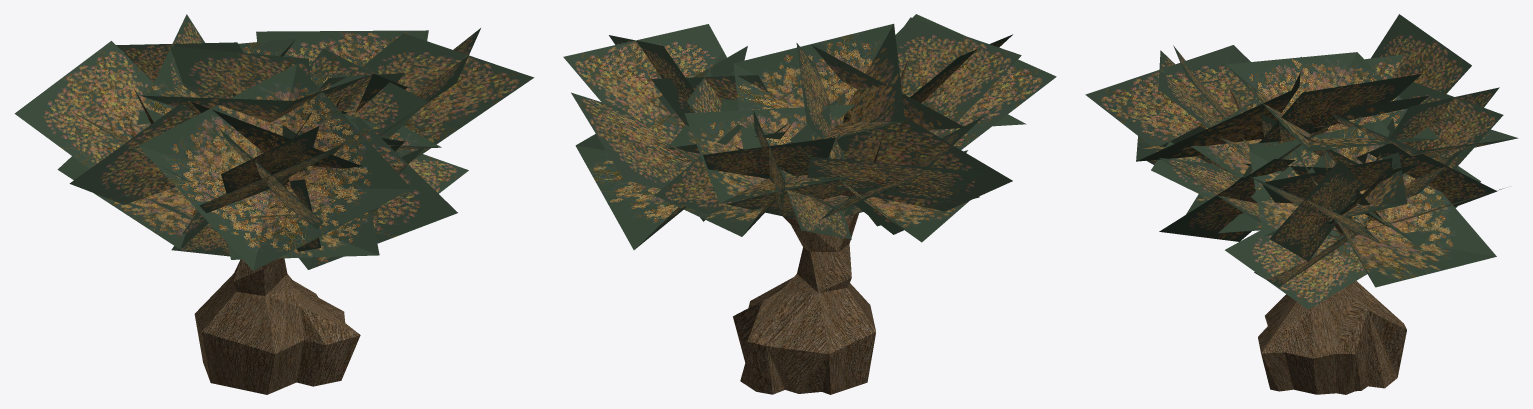
Rendered from decd_oaktreeleaves_a2_l1.fbx.
3 renders of one model, left to right at view 1: azimuth 30°, elevation 25°; view 2: azimuth 150°, elevation 25°; view 3: azimuth 270°, elevation 25°, orthographic. The views are drawn at different scales.
Visible parts, largest first — view 1: mesh_node; view 2: mesh_node; view 3: mesh_node.
Part boxes in pixels (left/top/right/bottom): mesh_node: left=14, top=14, right=534, bottom=394; mesh_node: left=563, top=14, right=1056, bottom=394; mesh_node: left=1085, top=14, right=1518, bottom=394.
Bounding box in the file's own units: 20.89 × 13.99 × 18.78.
3 materials, 3 textured.
